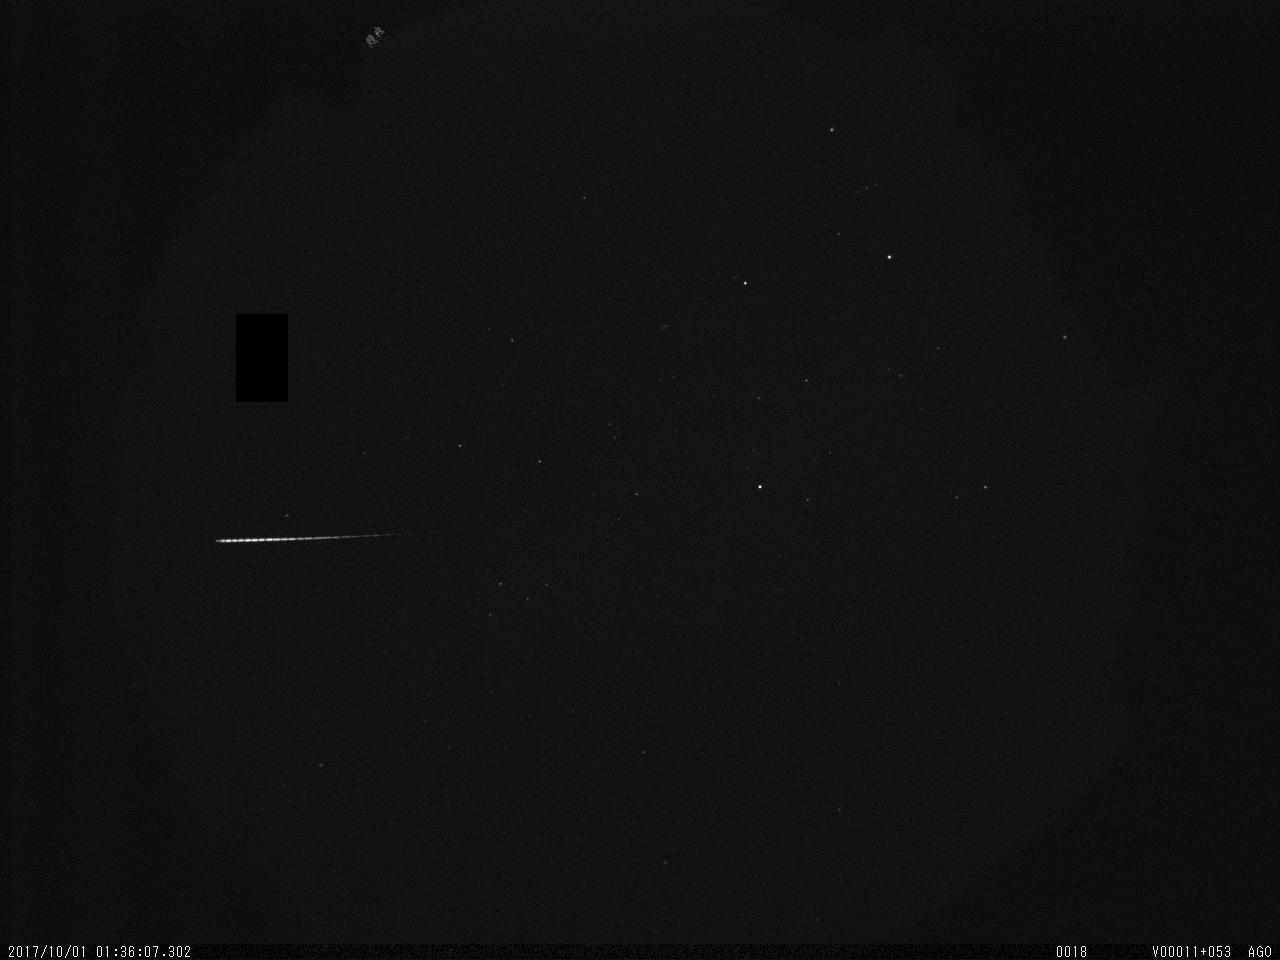TLE: (351, 12, 404, 53)
